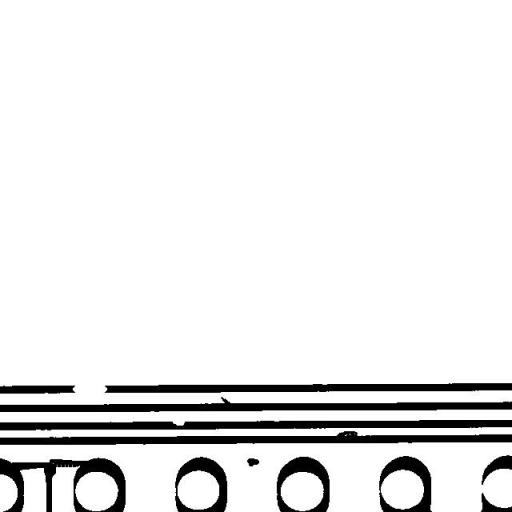copper: (240, 450, 266, 474)
mousebite: (165, 412, 192, 433)
open: (65, 374, 114, 404)
short: (3, 454, 59, 480), (42, 452, 95, 474)
spur: (328, 424, 365, 446), (213, 389, 239, 413)
